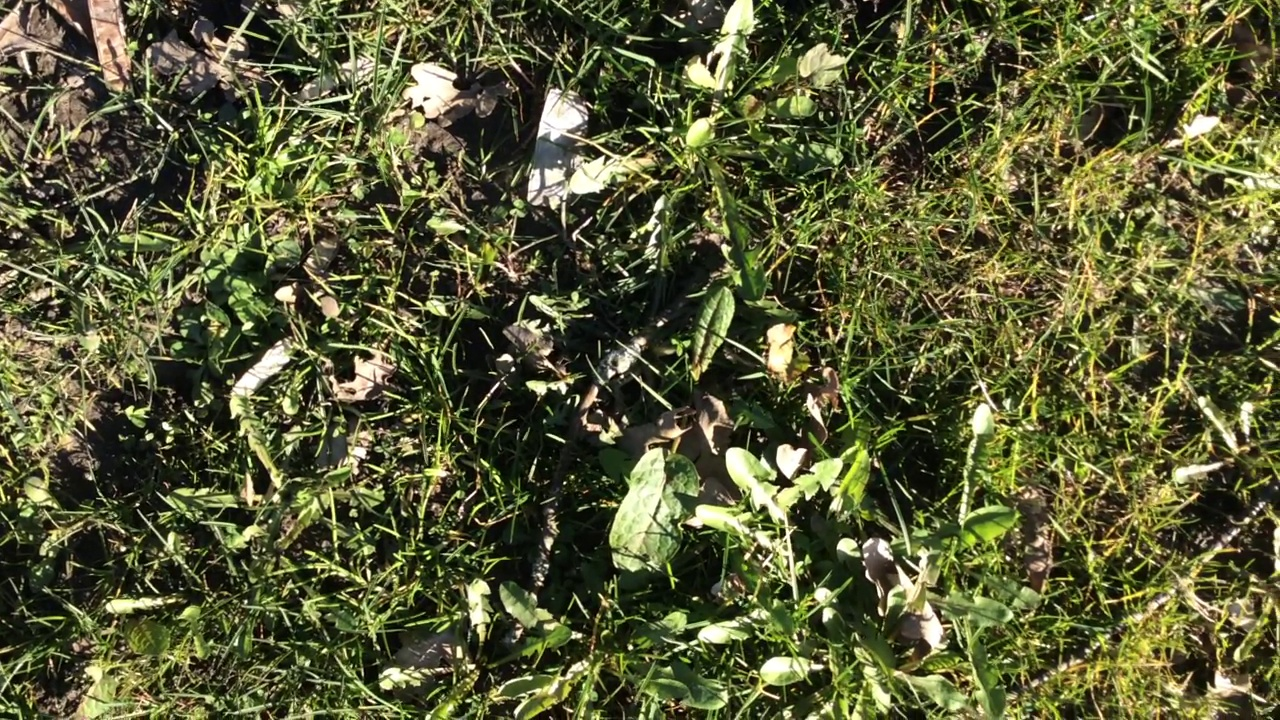rumex: (610, 448, 701, 593), (695, 286, 737, 375)
